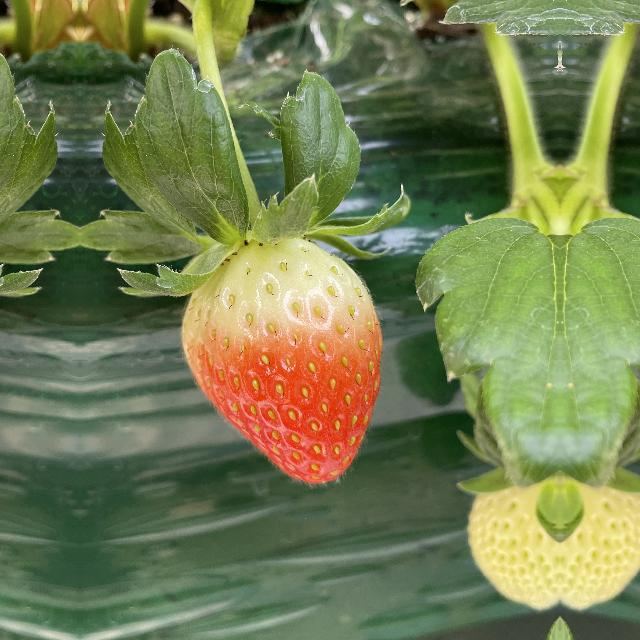Health_75: (178, 227, 388, 498)
